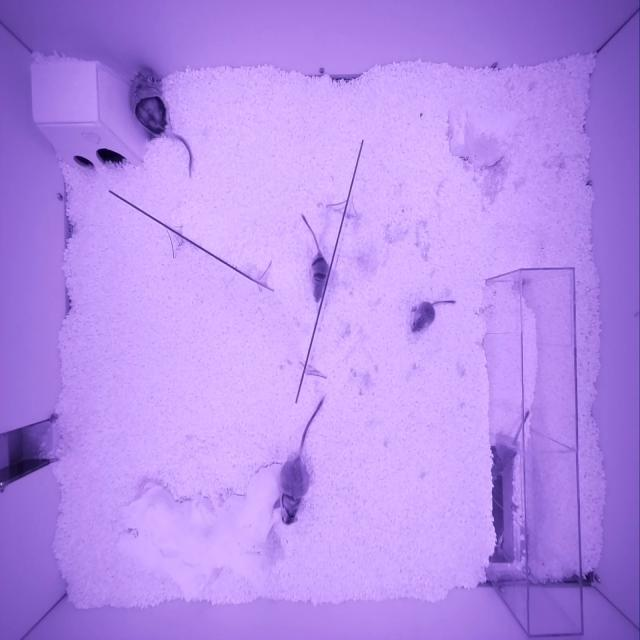adult_back: (129, 68, 171, 137)
adult_front: (279, 458, 311, 526)
pup_fluffy: (410, 301, 436, 335)
pup_h_stripe: (312, 251, 328, 303)
pup_spotted: (492, 432, 518, 484)
